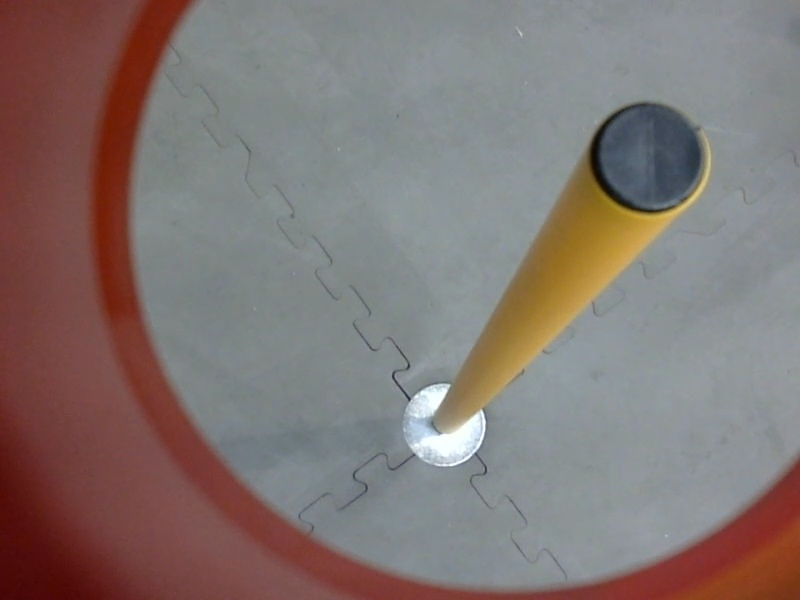tip: (582, 85, 723, 230)
